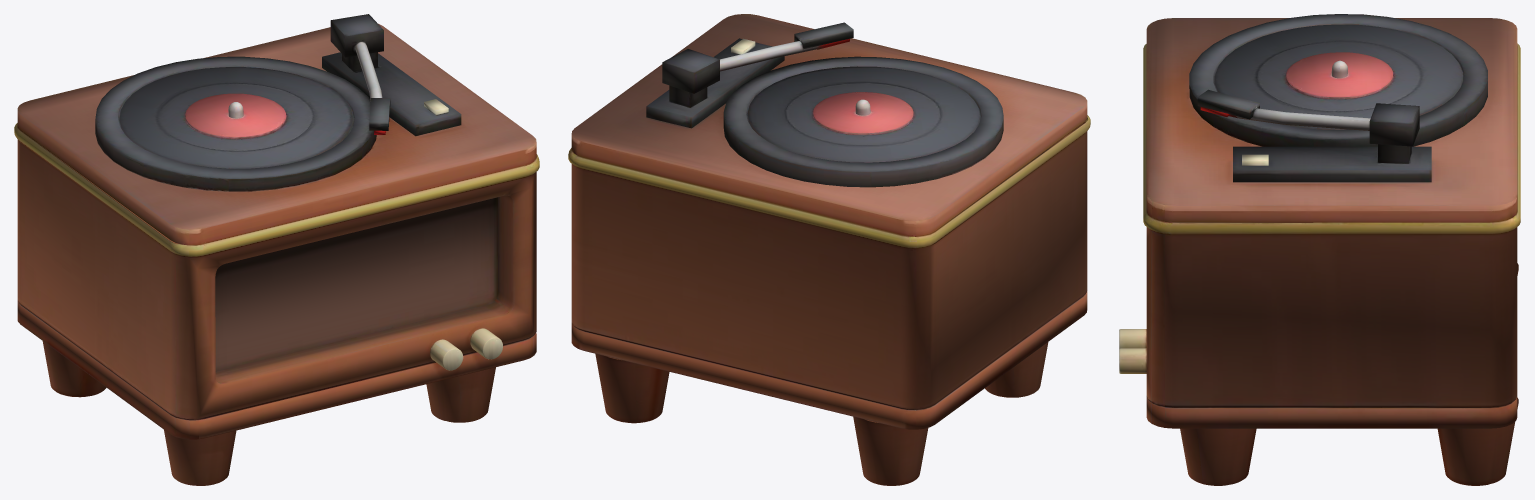
File: recordPlayer.glb
3 renders of one model, left to right at view 1: azimuth 30°, elevation 25°; view 2: azimuth 150°, elevation 25°; view 3: azimuth 270°, elevation 25°, orthographic. The views are drawn at different scales.
Visible parts, largest first — view 1: tripo_node_fc81f780-ea80-4afe-bdd8-7330b575b04e; view 2: tripo_node_fc81f780-ea80-4afe-bdd8-7330b575b04e; view 3: tripo_node_fc81f780-ea80-4afe-bdd8-7330b575b04e.
Part boxes in pixels (<box>): tripo_node_fc81f780-ea80-4afe-bdd8-7330b575b04e: <box>14,14,539,485</box>; tripo_node_fc81f780-ea80-4afe-bdd8-7330b575b04e: <box>568,14,1090,485</box>; tripo_node_fc81f780-ea80-4afe-bdd8-7330b575b04e: <box>1119,14,1520,485</box>.
Bounding box in the file's own units: 0.9995 × 0.8609 × 0.8951.
Materials: 1 (1 with a texture image).
